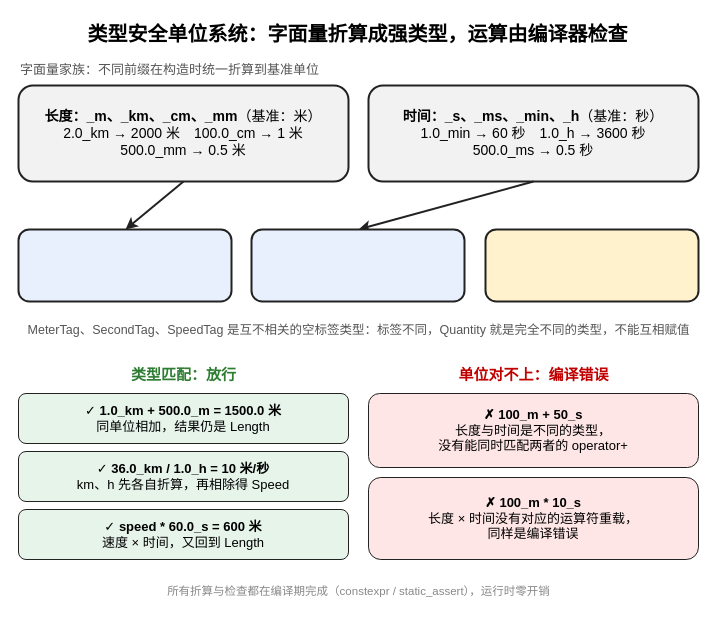
The diagram is 716 pixels wide and 618 high, and some of its shapes have lost their labels. The shapes that lost their labels are listed below. From the top down, each one's centre as x and y in pixels, then its label:
At (x=124, y=265): "Length Quantity<long double, MeterTag>".
At (x=357, y=265): "TimeDuration Quantity<long double, SecondTag>".
At (x=591, y=265): "Speed Quantity<long double, SpeedTag> Length ÷ TimeDuration 的结果".
